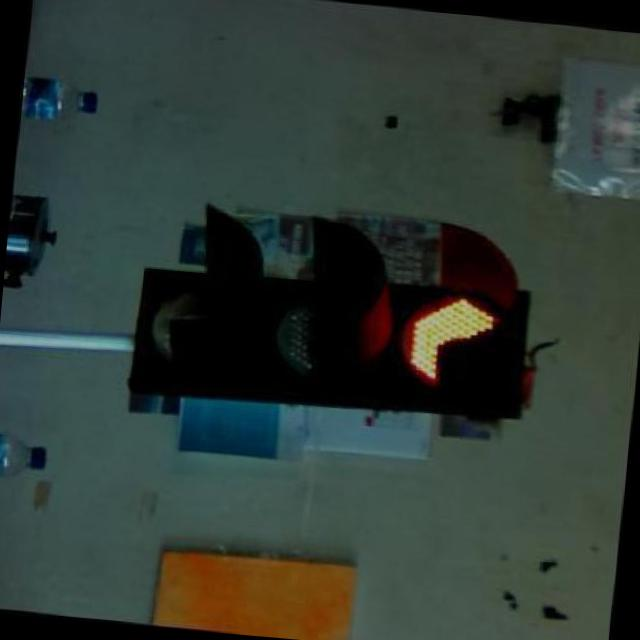red-lights: (382, 218, 538, 421)
